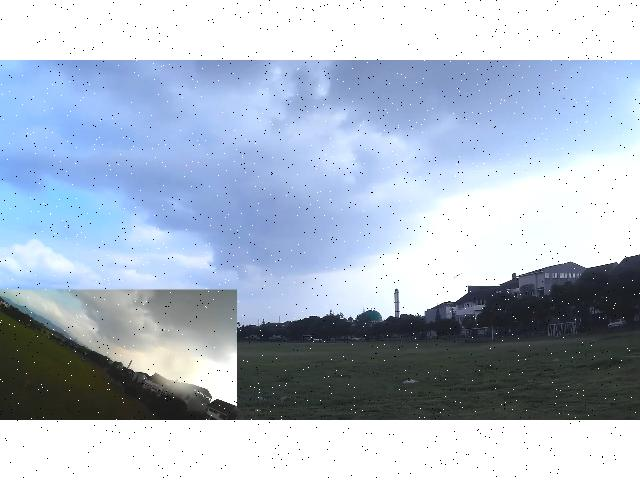Anti-Drone: (442, 265, 468, 285)
